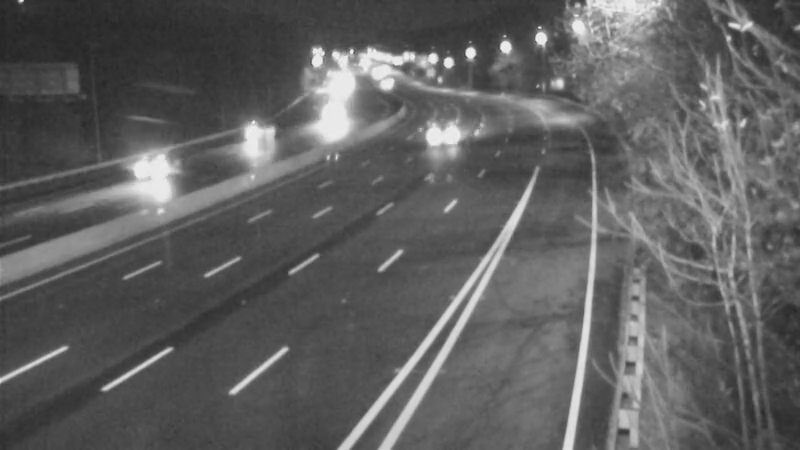vehicle: (111, 127, 191, 207), (416, 103, 466, 153), (234, 118, 284, 168), (306, 96, 356, 146)
